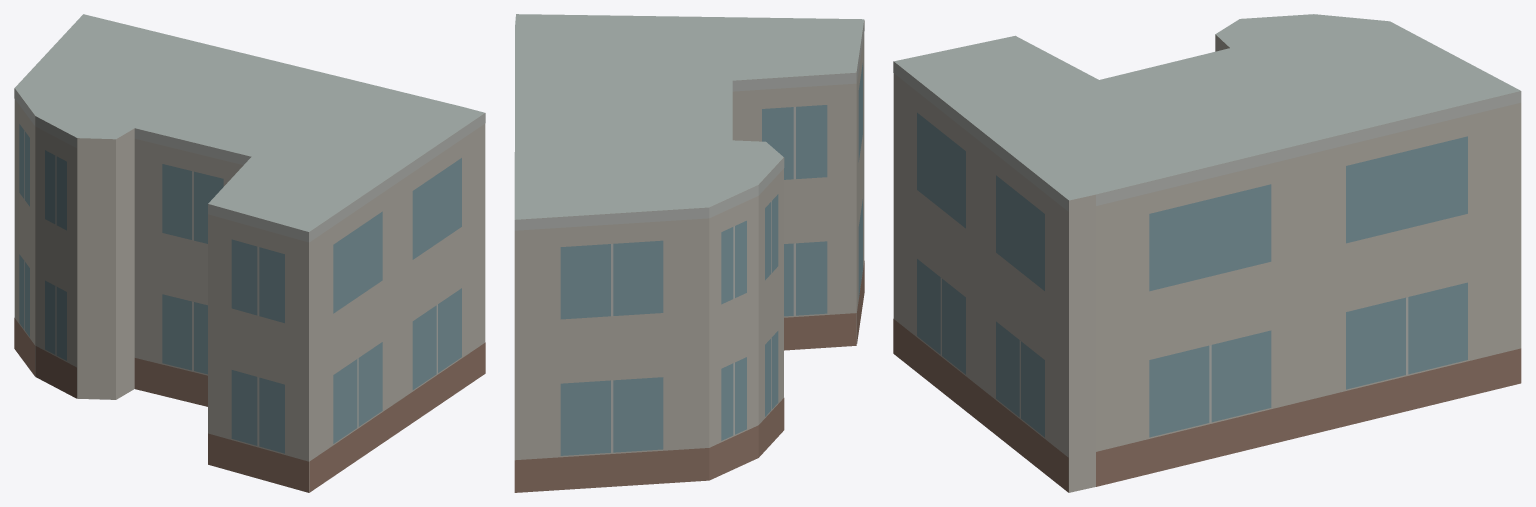
The model's file is survey-upis-32462331.glb.
The picture shows the model from 3 angles, left to right: view 1: azimuth 30°, elevation 25°; view 2: azimuth 150°, elevation 25°; view 3: azimuth 270°, elevation 25°; orthographic projection. The views are drawn at different scales.
Visible parts, largest first — view 1: survey-upis-32462331.tmp; view 2: survey-upis-32462331.tmp; view 3: survey-upis-32462331.tmp.
Boxes of the visible parts, bbox=[...] form: survey-upis-32462331.tmp: bbox=[14, 14, 485, 492]; survey-upis-32462331.tmp: bbox=[514, 14, 864, 492]; survey-upis-32462331.tmp: bbox=[893, 14, 1521, 492].
Bounding box in the file's own units: 8.35 × 6.1 × 11.88.
